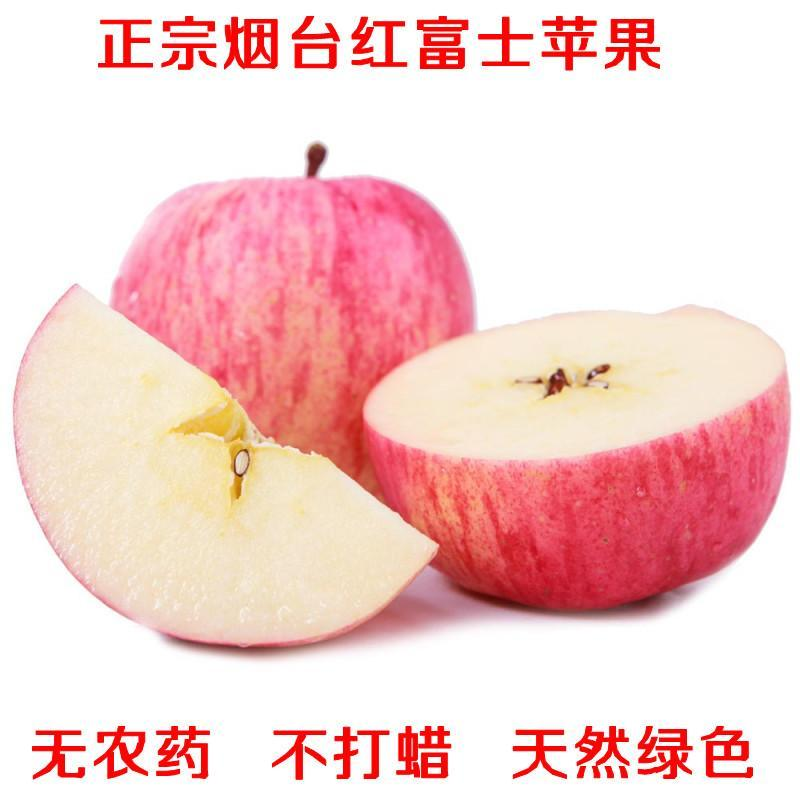apple: (59, 171, 482, 621)
